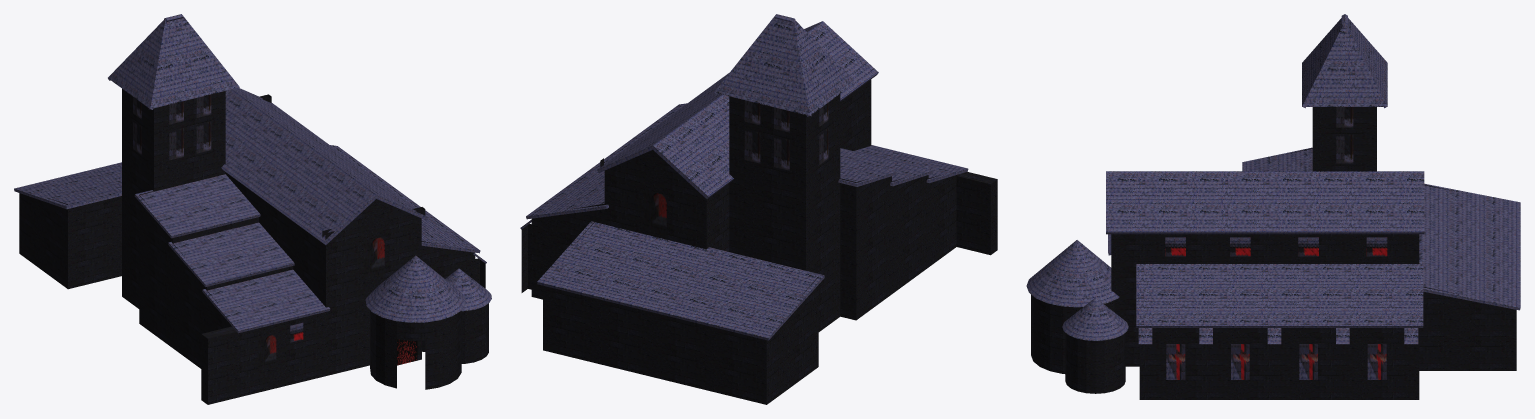
Rendered from b_church.glb.
3 views of the same model, side by side, from view 1: azimuth 30°, elevation 25°; view 2: azimuth 150°, elevation 25°; view 3: azimuth 270°, elevation 25° (orthographic). The views are drawn at different scales.
Parts seen in each view (by area): view 1: b_church; view 2: b_church; view 3: b_church.
Part boxes in pixels (x1,y1,x2,y2): b_church: (14,14,491,404); b_church: (520,14,997,404); b_church: (1026,14,1520,399).
Bounding box in the file's own units: 18.05 × 16.7 × 26.29.
Materials: 7 (7 with a texture image).
